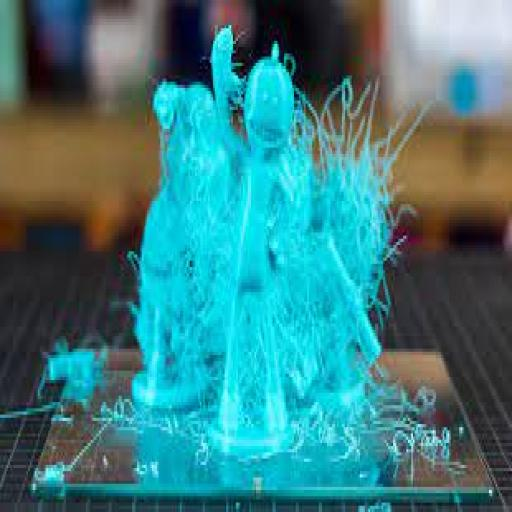spaghetti: (122, 79, 422, 425)
